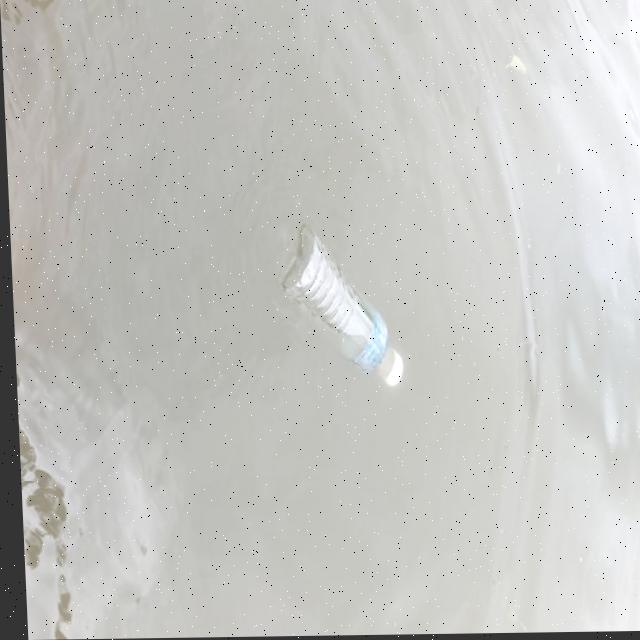waterbottle: (240, 211, 442, 396)
